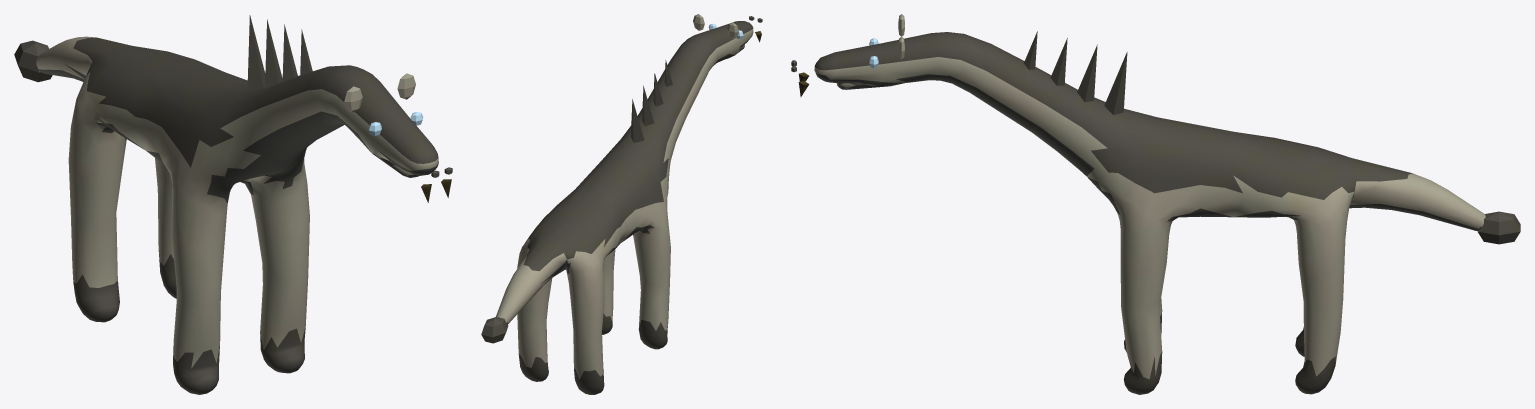
The model's file is pet_pt_jeolyeong.glb.
The picture shows the model from 3 angles, left to right: view 1: azimuth 30°, elevation 25°; view 2: azimuth 150°, elevation 25°; view 3: azimuth 270°, elevation 25°; orthographic projection. The views are drawn at different scales.
Parts seen in each view (by area): view 1: pet_pt_jeolyeong; view 2: pet_pt_jeolyeong; view 3: pet_pt_jeolyeong.
Boxes of the visible parts, <box> form: pet_pt_jeolyeong: <box>14,15,452,394</box>; pet_pt_jeolyeong: <box>481,14,762,394</box>; pet_pt_jeolyeong: <box>791,14,1520,394</box>.
Size of the model in its own units: 0.3894 by 1.16 by 2.19.
Materials: 5 (5 with a texture image).
